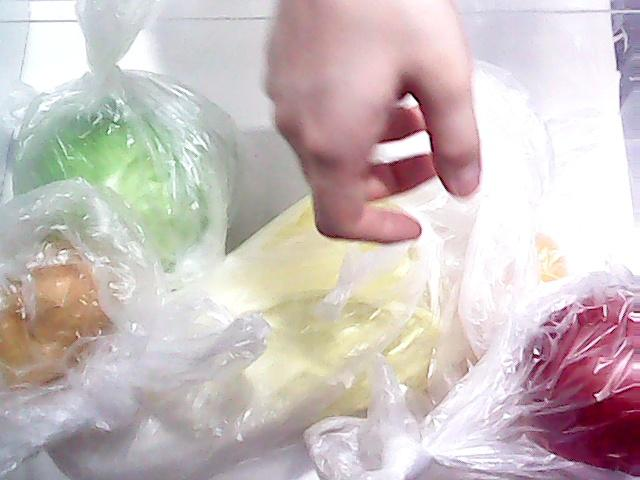apple: (516, 275, 640, 477)
cabbage: (12, 71, 244, 298)
napa cabbage: (46, 119, 442, 477)
potato: (0, 242, 122, 392)
radish: (373, 49, 554, 230)
